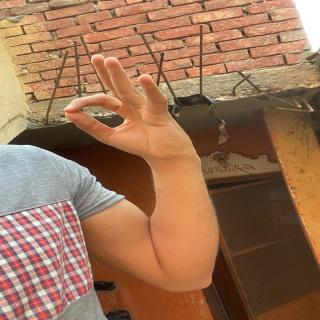Space: (61, 48, 204, 164)
